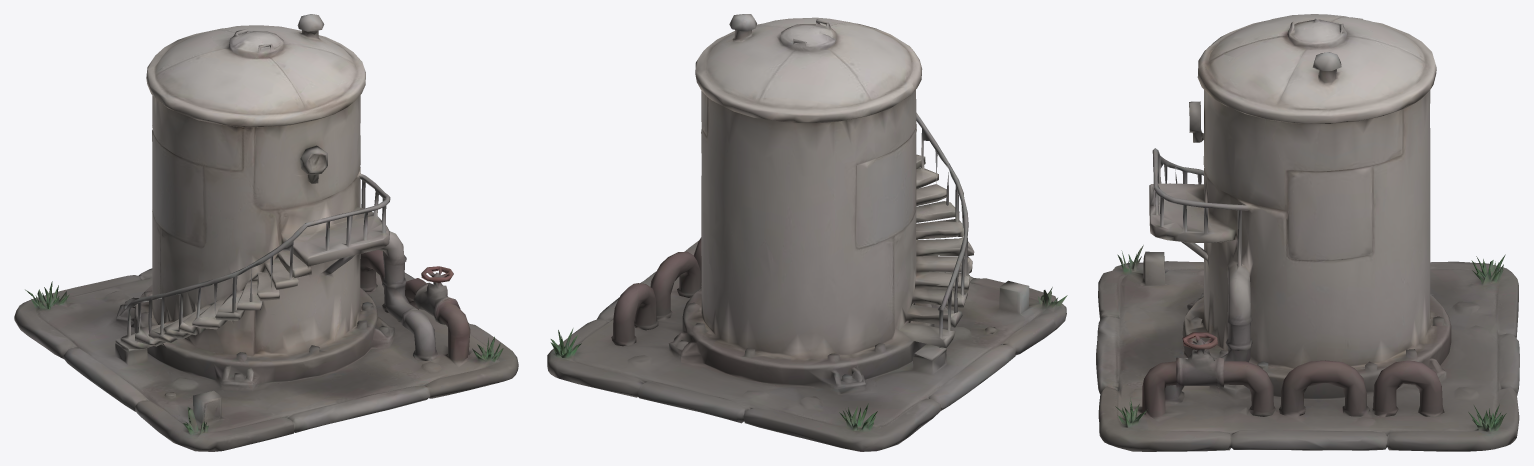
Rendered from refinery_tank.glb.
3 views of the same model, side by side, from view 1: azimuth 30°, elevation 25°; view 2: azimuth 150°, elevation 25°; view 3: azimuth 270°, elevation 25° (orthographic). The views are drawn at different scales.
Parts seen in each view (by area): view 1: tripo_node_884f1336-12d5-40ed-acb9-437870dfd8d1; view 2: tripo_node_884f1336-12d5-40ed-acb9-437870dfd8d1; view 3: tripo_node_884f1336-12d5-40ed-acb9-437870dfd8d1.
Boxes of the visible parts, x1,y1,x2,y2 form: tripo_node_884f1336-12d5-40ed-acb9-437870dfd8d1: (14,14,518,451); tripo_node_884f1336-12d5-40ed-acb9-437870dfd8d1: (547,14,1067,451); tripo_node_884f1336-12d5-40ed-acb9-437870dfd8d1: (1096,14,1519,451).
Size of the model in its own units: 1 by 0.886 by 0.9949.
1 material, 1 textured.
